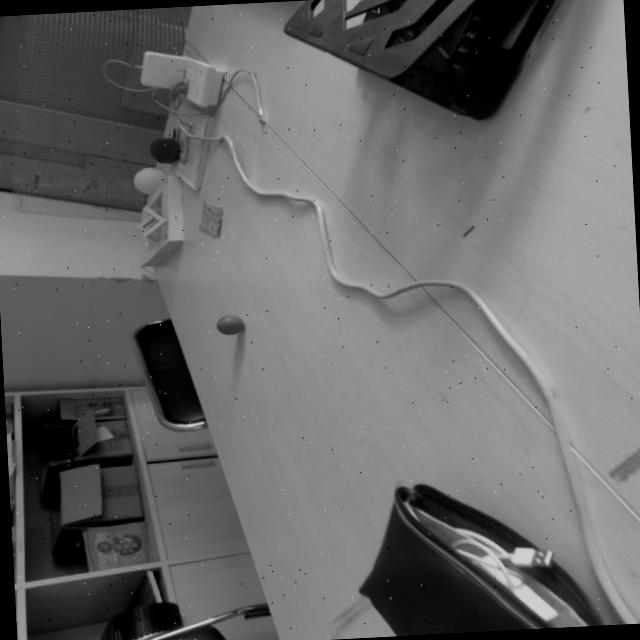ping-pong-ball: (216, 312, 243, 337)
